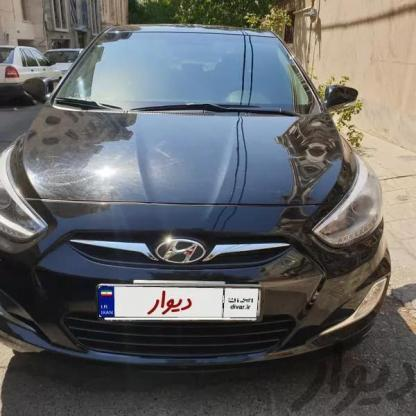Car: (0, 28, 397, 371), (0, 43, 48, 100), (45, 46, 87, 80)
